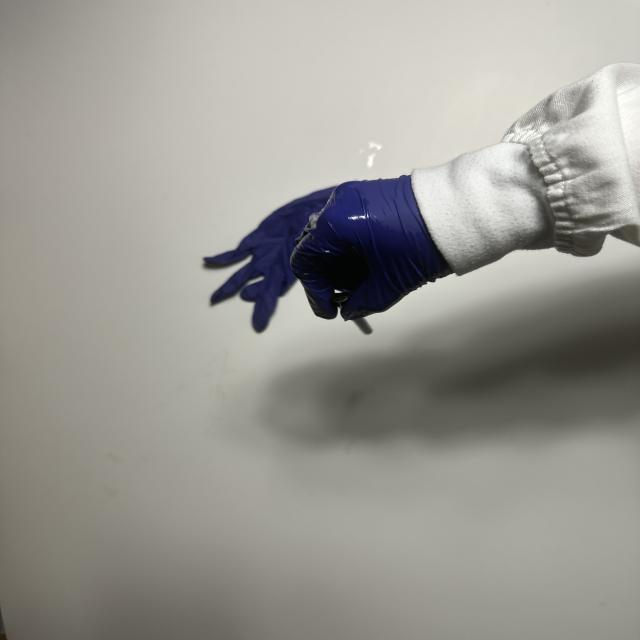gloves_contaminated: (291, 176, 453, 319)
